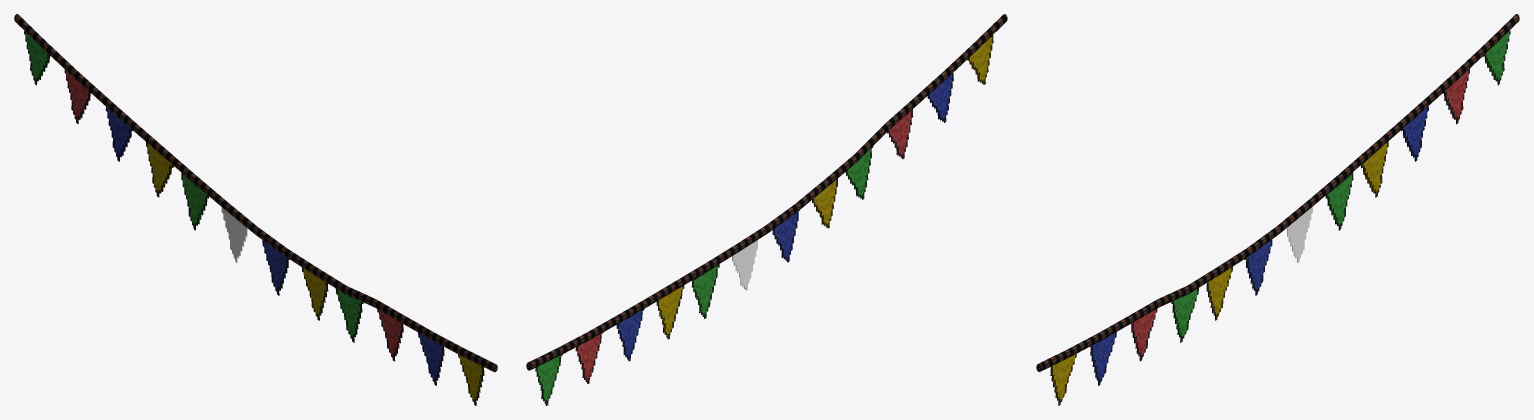
The model's file is bunting.glb.
3 renders of one model, left to right at view 1: azimuth 30°, elevation 25°; view 2: azimuth 150°, elevation 25°; view 3: azimuth 330°, elevation 25°, orthographic.
Parts seen in each view (by area): view 1: Cylinder, Plane.001, Plane.004, Plane.010, Plane.002, Plane, Plane.009, Plane.005, Plane.007, Plane.003, Plane.006, Plane.008 (+1 smaller); view 2: Cylinder, Plane.001, Plane.004, Plane.005, Plane.002, Plane.006, Plane.007, Plane.010, Plane, Plane.009, Plane.003, Plane.008 (+1 smaller); view 3: Cylinder, Plane.001, Plane.004, Plane.002, Plane.010, Plane, Plane.009, Plane.005, Plane.006, Plane.007, Plane.003, Plane.011 (+1 smaller).
Boxes of the visible parts, x1,y1,x2,y2 form: Cylinder: [14, 14, 497, 372]; Plane.001: [181, 173, 208, 230]; Plane.004: [146, 142, 173, 197]; Plane.010: [335, 288, 363, 342]; Plane.002: [262, 240, 289, 295]; Plane: [221, 207, 247, 262]; Plane.009: [418, 332, 444, 385]; Plane.005: [105, 107, 132, 161]; Plane.007: [64, 69, 90, 123]; Plane.003: [301, 267, 328, 320]; Plane.006: [24, 31, 50, 85]; Plane.008: [458, 354, 484, 405]; Cylinder: [526, 14, 1007, 370]; Plane.001: [691, 264, 719, 318]; Plane.004: [656, 285, 684, 339]; Plane.005: [616, 309, 644, 361]; Plane.002: [772, 210, 799, 262]; Plane.006: [535, 354, 562, 405]; Plane.007: [575, 332, 603, 383]; Plane.010: [845, 146, 873, 199]; Plane: [732, 239, 758, 290]; Plane.009: [927, 73, 953, 122]; Plane.003: [812, 178, 837, 228]; Plane.008: [967, 35, 993, 84]; Cylinder: [1036, 14, 1519, 371]; Plane.001: [1325, 172, 1353, 230]; Plane.004: [1361, 141, 1388, 197]; Plane.002: [1244, 239, 1272, 295]; Plane.010: [1171, 288, 1198, 342]; Plane: [1286, 206, 1312, 262]; Plane.009: [1090, 332, 1116, 385]; Plane.005: [1401, 106, 1428, 161]; Plane.006: [1483, 30, 1510, 85]; Plane.007: [1442, 68, 1469, 124]; Plane.003: [1206, 266, 1232, 320]; Plane.011: [1131, 308, 1157, 361].
Bounding box in the file's own units: 0.0154 × 0.2509 × 2.41.
Materials: 13 (12 with a texture image).
